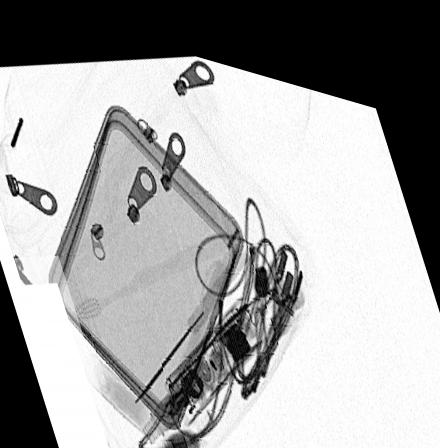Knife: (165, 247, 234, 396)
